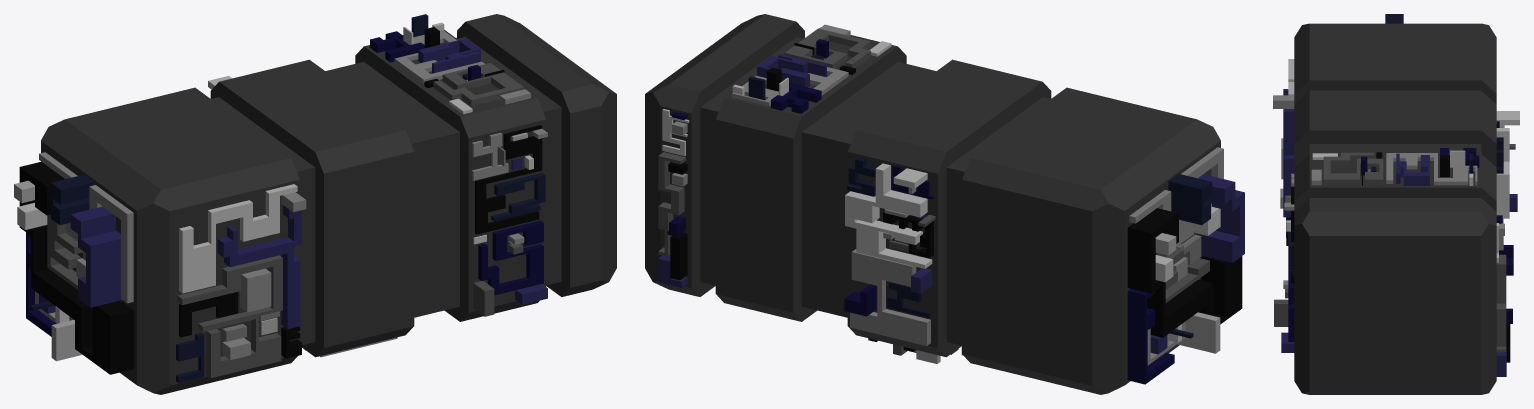
File: SpaceObject2.2.fbx
The picture shows the model from 3 angles, left to right: view 1: azimuth 30°, elevation 25°; view 2: azimuth 150°, elevation 25°; view 3: azimuth 270°, elevation 25°; orthographic projection. The views are drawn at different scales.
Visible parts, largest first — view 1: body, Object_107, Object_65, Object_62, Object_105, Object_63, Object_75, Object_82, Object_102, Object_8, Object_106, Object_92 (+14 smaller); view 2: body, Object_107, Object_42, Object_46, Object_105, Object_101, Object_8, Object_92, Object_102, Object_24, Object_9, Object_98 (+9 smaller); view 3: body, Object_8, Object_10, Object_63, Object_24, Object_42, Object_9, Object_75, Object_76, Object_39, Object_45, Object_14 (+8 smaller).
Boxes of the visible parts, box(x1,y1,x2,y2) form: body: box(41, 14, 616, 394); Object_107: box(19, 161, 134, 374); Object_65: box(177, 255, 282, 378); Object_62: box(179, 184, 297, 293); Object_105: box(70, 206, 121, 307); Object_63: box(217, 205, 301, 328); Object_75: box(478, 220, 543, 295); Object_82: box(475, 125, 542, 234); Object_102: box(39, 152, 133, 303); Object_8: box(433, 63, 524, 106); Object_106: box(47, 214, 82, 289); Object_92: box(51, 174, 94, 224); body: box(645, 14, 1220, 394); Object_107: box(1127, 208, 1242, 337); Object_42: box(845, 163, 932, 268); Object_46: box(850, 249, 930, 345); Object_105: box(1197, 174, 1244, 262); Object_101: box(1127, 289, 1174, 384); Object_8: box(784, 28, 870, 68); Object_92: box(1168, 173, 1212, 225); Object_102: box(1129, 147, 1223, 246); Object_24: box(658, 152, 685, 256); Object_9: box(757, 54, 826, 87); Object_98: box(1177, 312, 1220, 353); body: box(1294, 23, 1496, 394); Object_8: box(1323, 152, 1383, 185); Object_10: box(1386, 153, 1477, 185); Object_63: box(1283, 89, 1294, 217); Object_24: box(1496, 254, 1506, 352); Object_42: box(1496, 128, 1509, 218); Object_9: box(1396, 153, 1429, 185); Object_75: box(1288, 274, 1294, 341); Object_76: box(1274, 299, 1288, 326); Object_39: box(1496, 111, 1519, 125); Object_45: box(1499, 245, 1513, 275); Object_14: box(1440, 148, 1479, 167).
Size of the model in its own units: 325 by 146 by 150.
